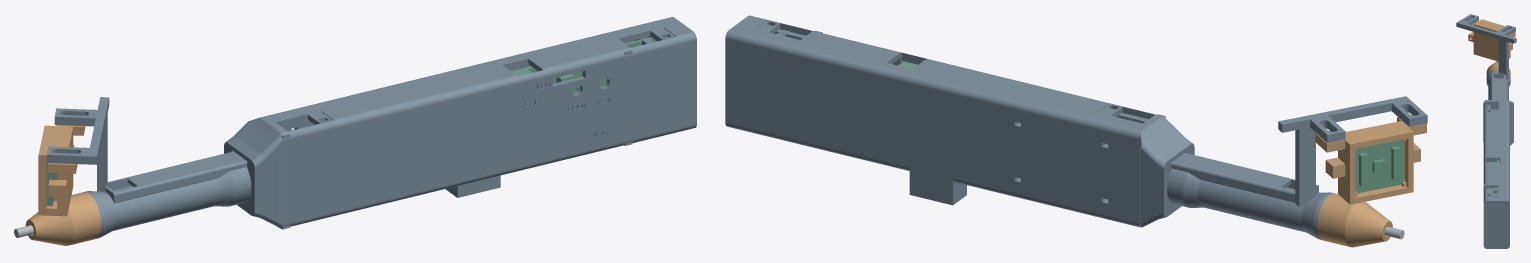
The model's file is smart_pen_v05_preview.glb.
The picture shows the model from 3 angles, left to right: view 1: azimuth 30°, elevation 25°; view 2: azimuth 150°, elevation 25°; view 3: azimuth 270°, elevation 25°; orthographic projection. The views are drawn at different scales.
Parts seen in each view (by area): view 1: 04_press_release_cover, 01_one_piece_barrel, 03_rear_base, 02_threaded_nose, 08_optical_cassette, 09_optical_lid, 22_rear_board_dummy_75x24; view 2: 03_rear_base, 01_one_piece_barrel, 04_press_release_cover, 08_optical_cassette, 02_threaded_nose, 21_PAT9125_dummy_14x15; view 3: 04_press_release_cover, 03_rear_base, 01_one_piece_barrel, 09_optical_lid, 08_optical_cassette, 02_threaded_nose, 22_rear_board_dummy_75x24.
Boxes of the visible parts, bbox=[...] form: 04_press_release_cover: bbox=[239, 23, 696, 229]; 01_one_piece_barrel: bbox=[46, 97, 251, 238]; 03_rear_base: bbox=[224, 17, 681, 206]; 02_threaded_nose: bbox=[25, 192, 101, 245]; 08_optical_cassette: bbox=[38, 125, 85, 216]; 09_optical_lid: bbox=[53, 126, 74, 216]; 22_rear_board_dummy_75x24: bbox=[511, 37, 656, 93]; 03_rear_base: bbox=[725, 20, 1179, 227]; 01_one_piece_barrel: bbox=[1167, 96, 1427, 239]; 04_press_release_cover: bbox=[737, 15, 1194, 207]; 08_optical_cassette: bbox=[1315, 114, 1426, 204]; 02_threaded_nose: bbox=[1317, 193, 1392, 247]; 21_PAT9125_dummy_14x15: bbox=[1355, 140, 1403, 193]; 04_press_release_cover: bbox=[1483, 100, 1498, 248]; 03_rear_base: bbox=[1486, 100, 1513, 248]; 01_one_piece_barrel: bbox=[1456, 14, 1516, 100]; 09_optical_lid: bbox=[1468, 23, 1509, 61]; 08_optical_cassette: bbox=[1470, 19, 1515, 58]; 02_threaded_nose: bbox=[1486, 61, 1510, 77]; 22_rear_board_dummy_75x24: bbox=[1488, 160, 1500, 193].
Size of the model in its own units: 0.206 by 0.0496 by 0.0323.
